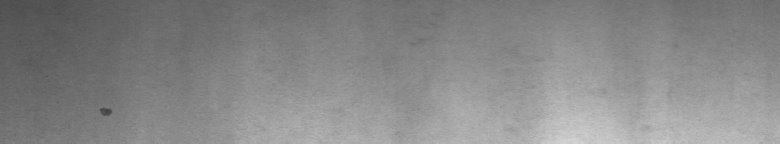fi: (96, 101, 113, 123)
